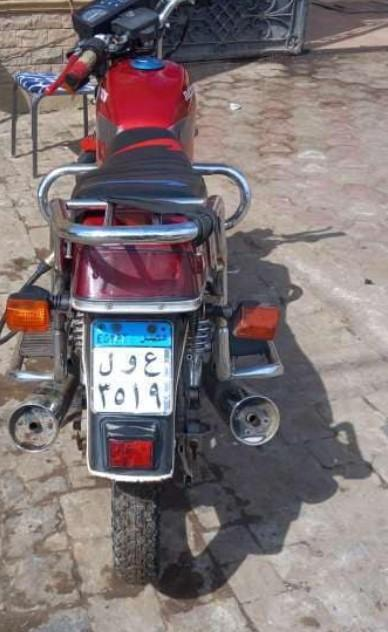License Plate: (90, 319, 180, 416)
